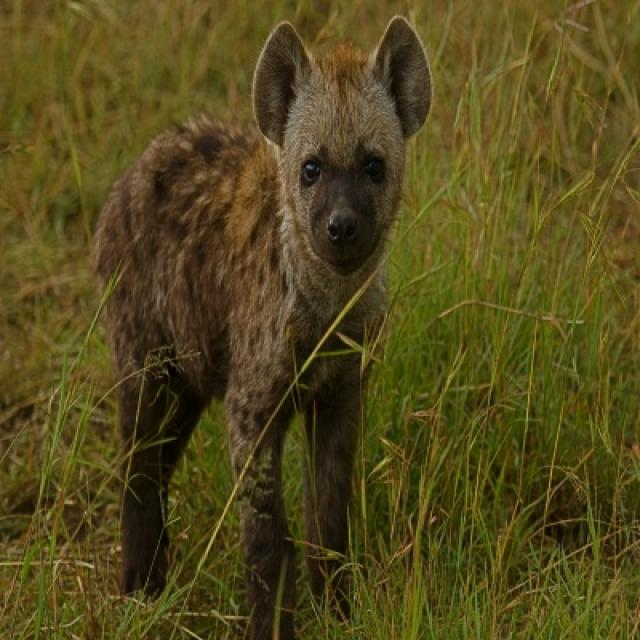hyena: (102, 13, 432, 627)
